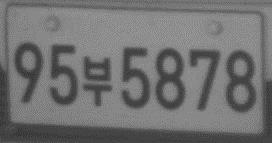5: (121, 46, 151, 109), (49, 43, 78, 105)
7: (189, 48, 220, 111)
8: (154, 46, 186, 111), (224, 49, 257, 112)
9: (13, 41, 43, 103)
부: (82, 55, 113, 107)
